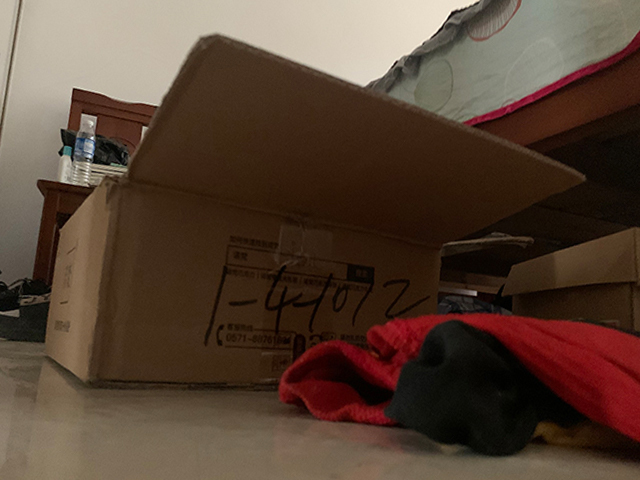socks: (274, 313, 640, 456)
